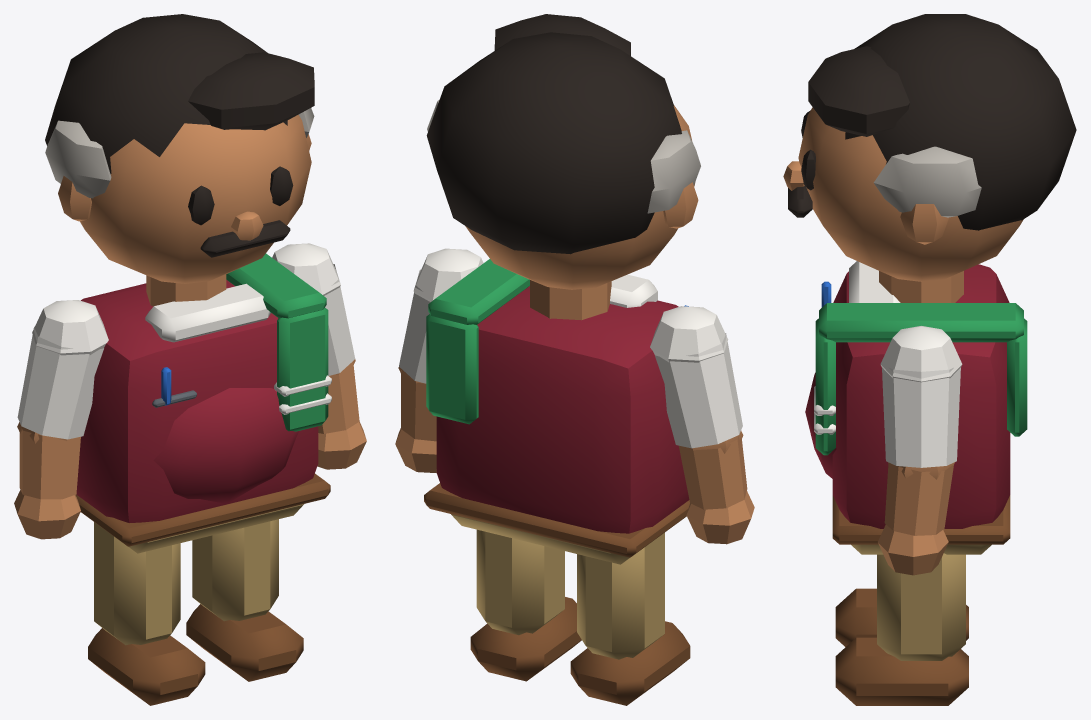
File: gopal.glb
3 views of the same model, side by side, from view 1: azimuth 30°, elevation 25°; view 2: azimuth 150°, elevation 25°; view 3: azimuth 270°, elevation 25° (orthographic). The views are drawn at different scales.
Parts seen in each view (by area): view 1: body, head, arm_r, leg_r, leg_l, arm_l; view 2: body, head, arm_r, leg_r, leg_l, arm_l; view 3: head, body, arm_l, leg_l, leg_r.
Boxes of the visible parts, x1,y1,x2,y2 form: body: [75, 253, 331, 553]; head: [45, 14, 314, 283]; arm_r: [14, 300, 108, 539]; leg_r: [88, 522, 205, 705]; leg_l: [186, 519, 303, 681]; arm_l: [272, 243, 366, 469]; body: [424, 259, 689, 564]; head: [426, 14, 700, 289]; arm_r: [650, 306, 754, 544]; leg_r: [570, 532, 690, 705]; leg_l: [470, 529, 581, 681]; arm_l: [395, 248, 483, 472]; head: [783, 14, 1076, 281]; body: [805, 261, 1027, 554]; arm_l: [878, 326, 962, 575]; leg_l: [835, 553, 968, 705]; leg_r: [835, 588, 968, 646].
Size of the model in its own units: 0.604 by 1.05 by 0.4333.
1 material, 1 textured.
